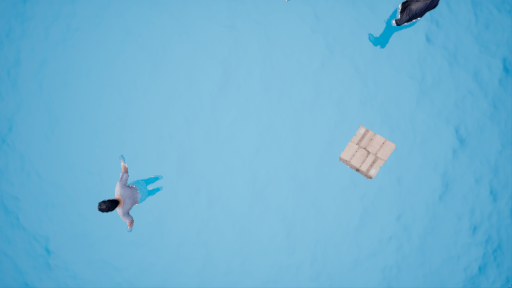person: (105, 154, 164, 236)
